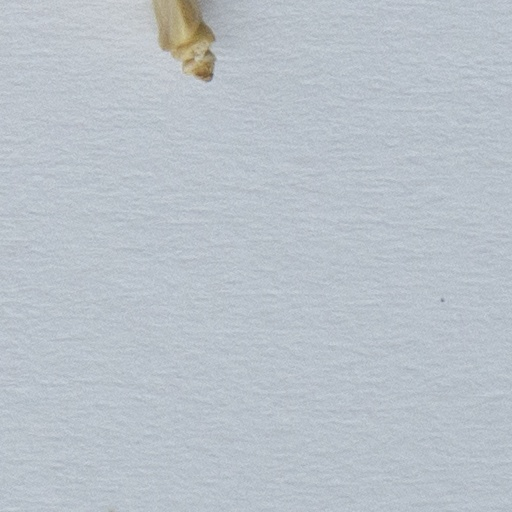Peel-poly: (151, 0, 215, 78)
